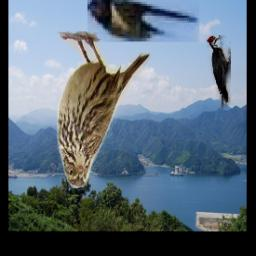Sparrow: (58, 31, 152, 188)
Swallow: (88, 0, 199, 42)
Woodpecker: (207, 36, 231, 110)
